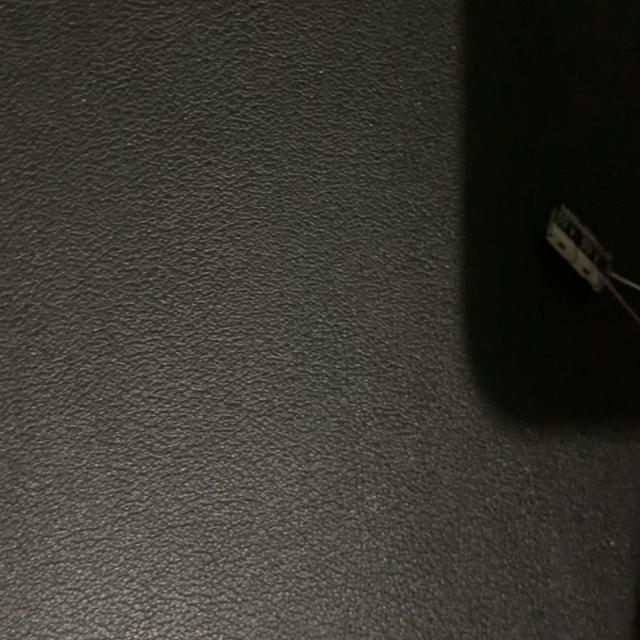capacitor: (545, 200, 640, 328)
